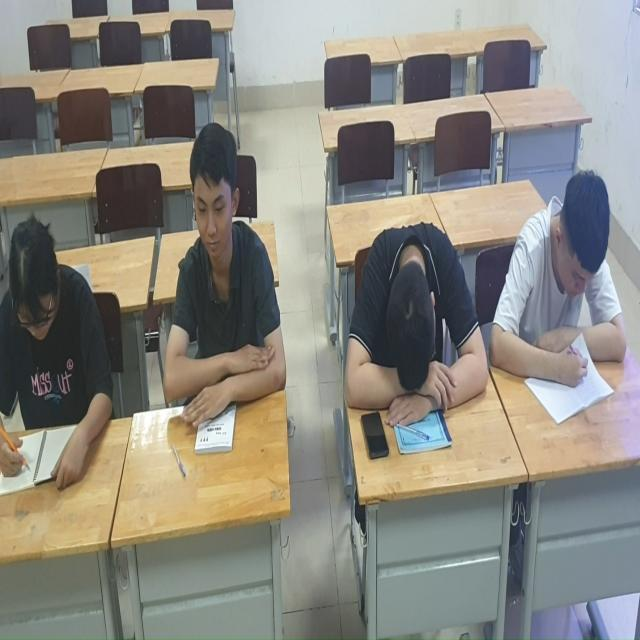sleep: (342, 223, 492, 428)
study: (163, 123, 284, 430), (0, 221, 114, 483), (493, 172, 627, 393)
